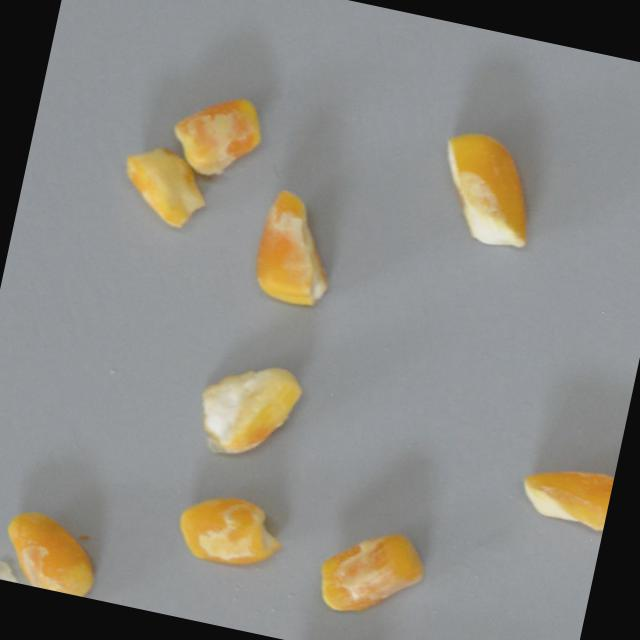pelicula: (427, 124, 545, 252), (189, 351, 307, 469), (310, 518, 431, 629), (246, 183, 348, 314), (169, 482, 288, 578), (164, 80, 270, 184), (0, 504, 107, 598), (114, 137, 216, 232), (516, 456, 614, 532)
